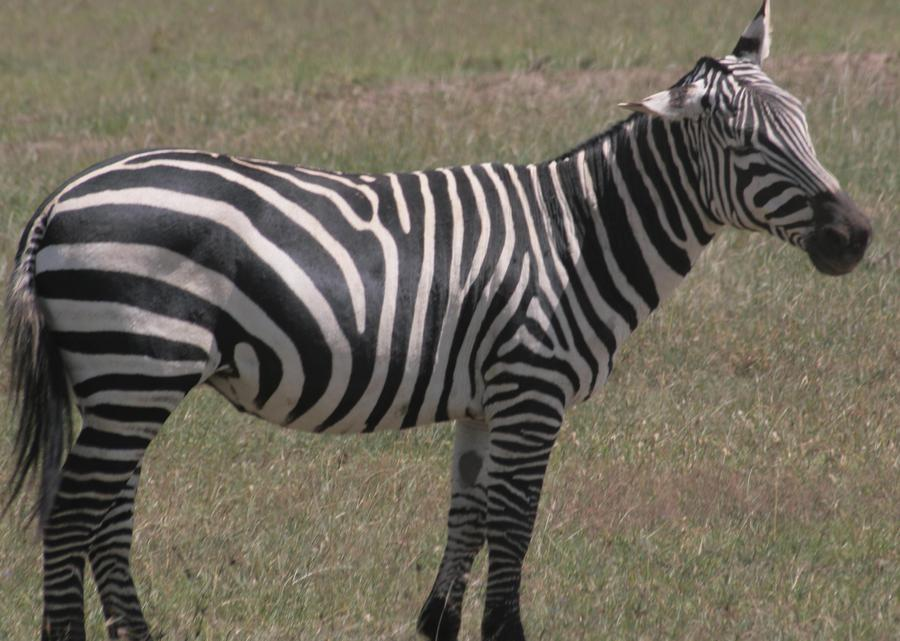zebra_plains: (62, 144, 600, 418)
